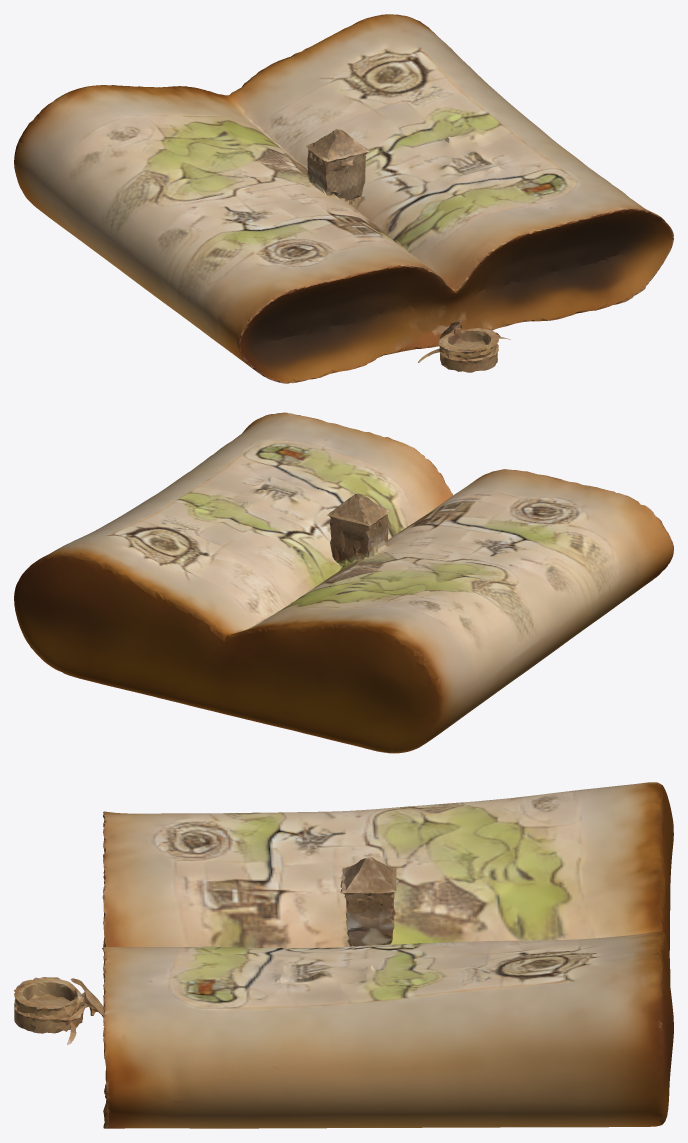
3 renders of one model, top to bottom at view 1: azimuth 30°, elevation 25°; view 2: azimuth 150°, elevation 25°; view 3: azimuth 270°, elevation 25°, orthographic. The views are drawn at different scales.
Parts seen in each view (by area): view 1: MapScroll; view 2: MapScroll; view 3: MapScroll.
Part boxes in pixels (<box>): MapScroll: <box>14,14,673,383</box>; MapScroll: <box>14,412,673,753</box>; MapScroll: <box>14,782,673,1128</box>.
Bounding box in the file's own units: 1.75 × 0.5255 × 1.89.
Materials: 1 (1 with a texture image).
